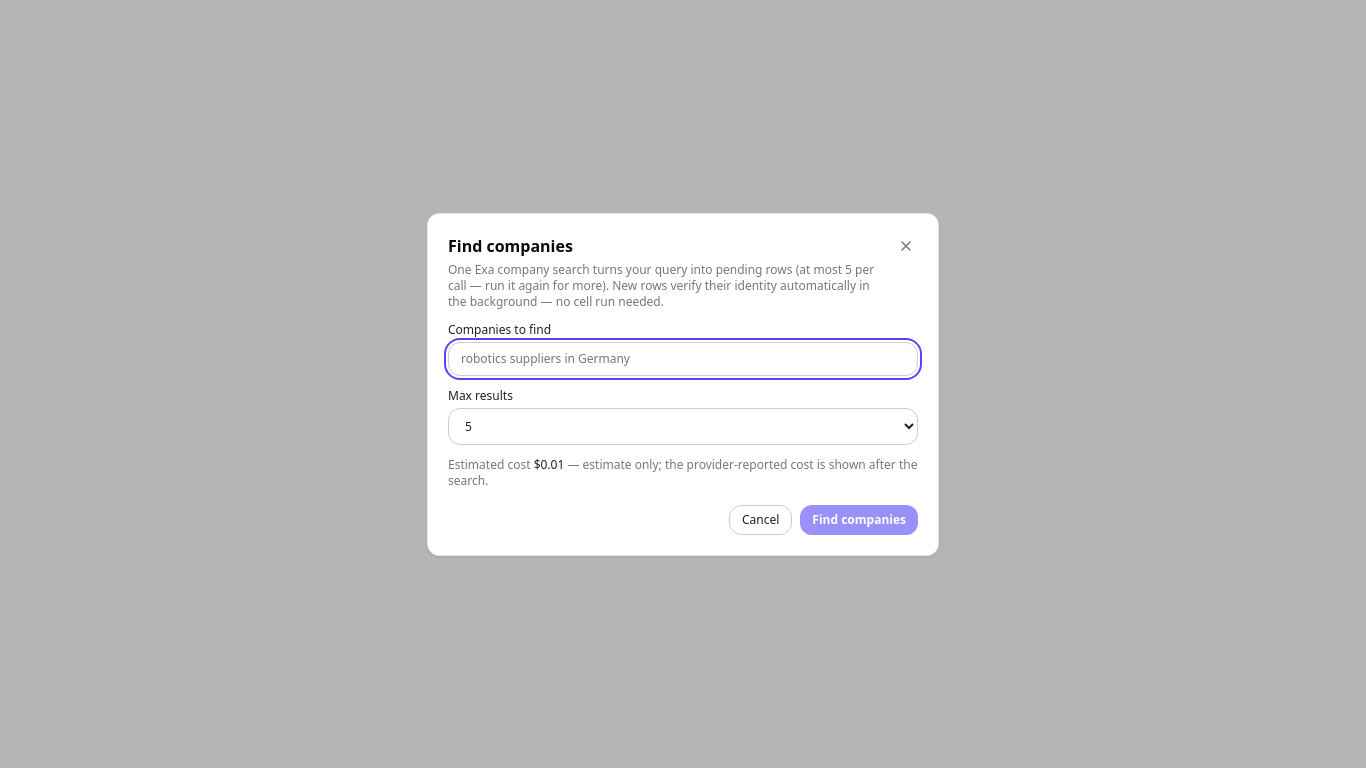
GenerateRowsDialog › shows the backend error verbatim and never resnapshots
In the field labelled "Companies to find": coordinates (683, 358) [448,342,918,376], type "anything"
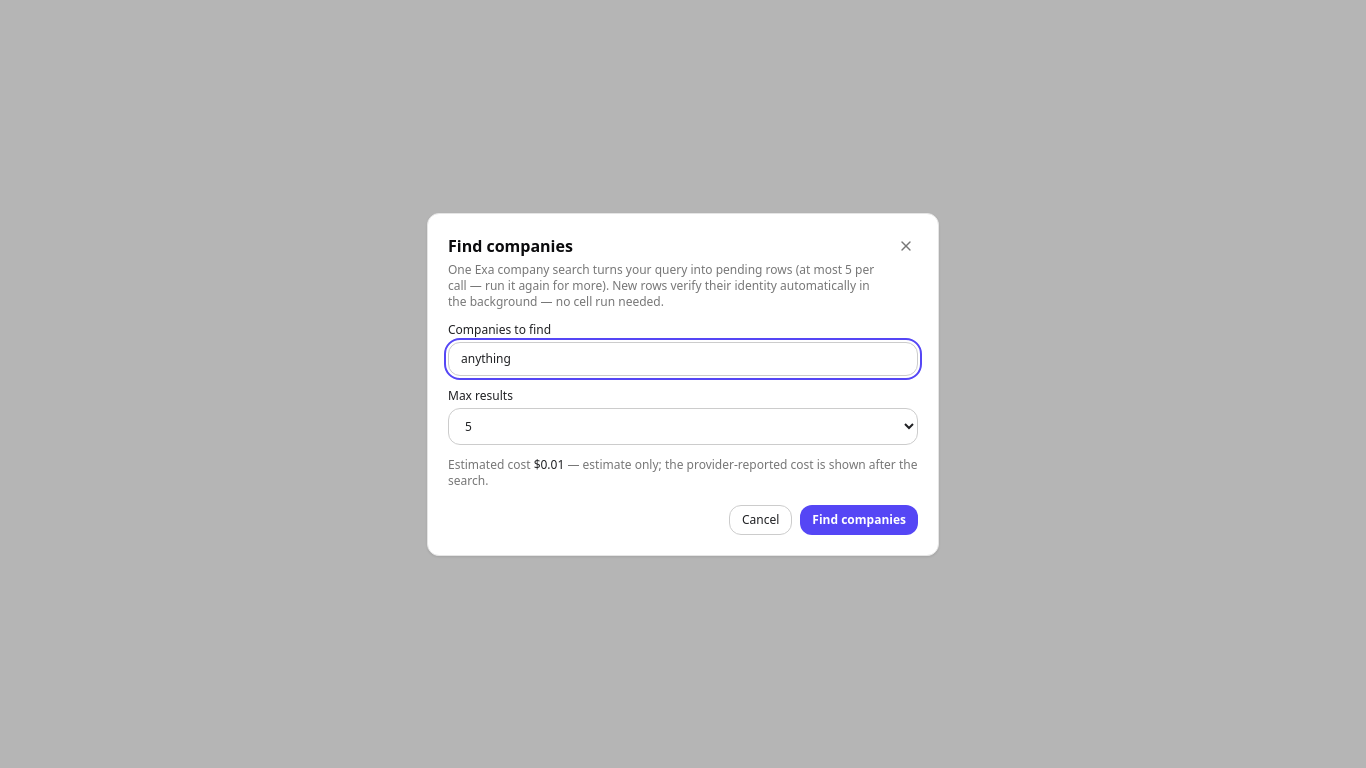
Press Enter
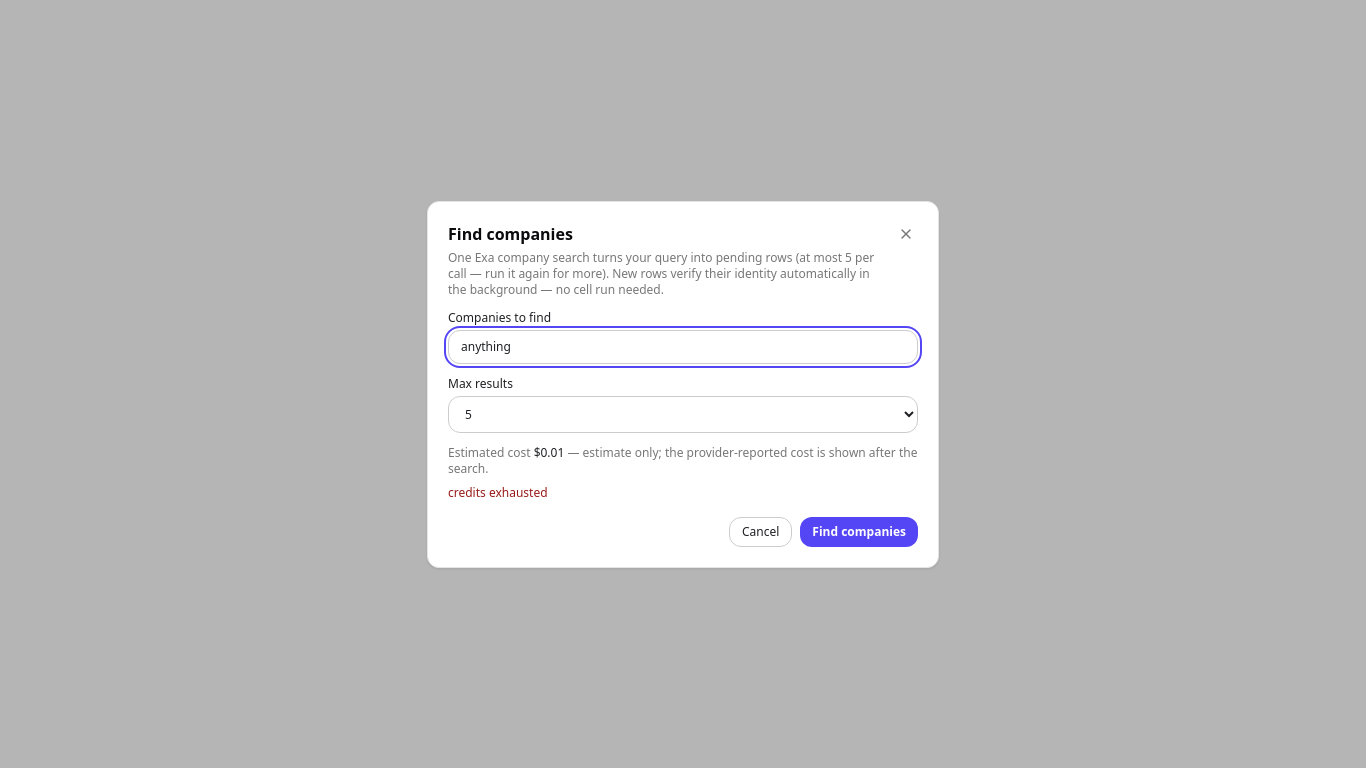
Expected: the message reads "credits exhausted", [448,484,548,500]
